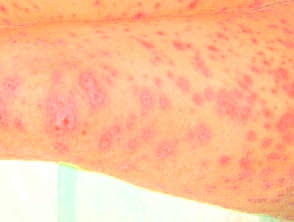SJS-TEN: (0, 0, 294, 210)
